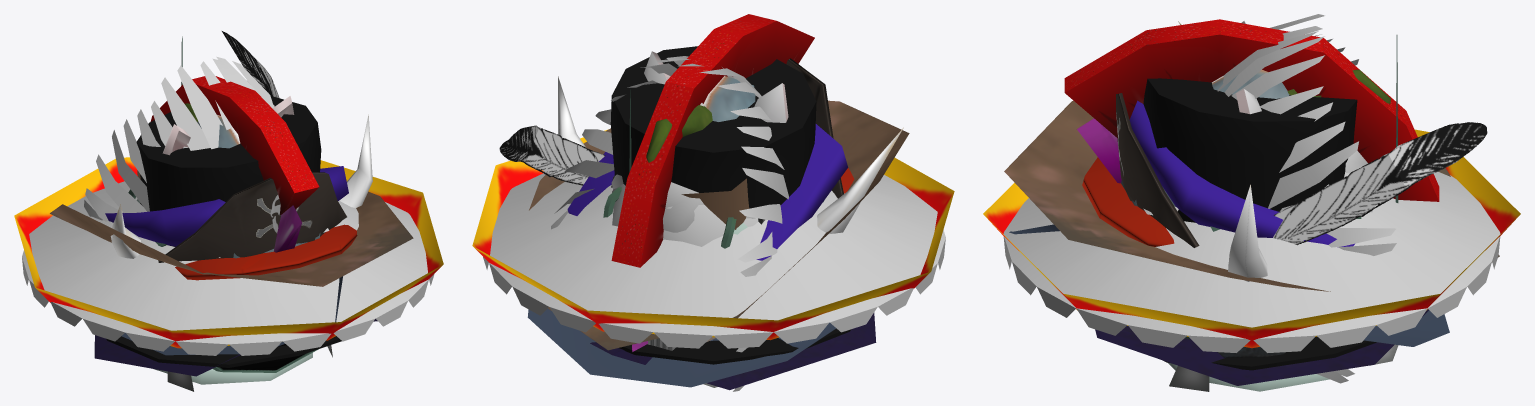
File: HatFix23-02-17.fbx
3 renders of one model, left to right at view 1: azimuth 30°, elevation 25°; view 2: azimuth 150°, elevation 25°; view 3: azimuth 270°, elevation 25°, orthographic. The views are drawn at different scales.
Parts seen in each view (by area): view 1: AsianHat, TopHat, Sombrero, NativeAmericanHat, PirateHat, RomanHelmet, CowboyHat, FiremanHelmet, PoliceHat, SpaceHelmet, VikingHelmet, WizardHat (+4 smaller); view 2: AsianHat, TopHat, RomanHelmet, MusketeerHat, Sombrero, CowboyHat, NativeAmericanHat, PoliceHat, WizardHat, VikingHelmet, BuildersHelmet, RastafarianHat (+5 smaller); view 3: AsianHat, RomanHelmet, TopHat, MusketeerHat, CowboyHat, NativeAmericanHat, Sombrero, PoliceHat, WizardHat, PirateHat, FiremanHelmet, VikingHelmet (+4 smaller).
Boxes of the visible parts, bbox=[...] form: AsianHat: bbox=[22, 181, 434, 355]; TopHat: bbox=[106, 96, 341, 367]; Sombrero: bbox=[14, 157, 443, 348]; NativeAmericanHat: bbox=[84, 56, 274, 221]; PirateHat: bbox=[158, 172, 346, 262]; RomanHelmet: bbox=[150, 76, 332, 391]; CowboyHat: bbox=[50, 170, 413, 286]; FiremanHelmet: bbox=[175, 224, 357, 280]; PoliceHat: bbox=[105, 166, 348, 246]; SpaceHelmet: bbox=[128, 36, 318, 384]; VikingHelmet: bbox=[110, 114, 372, 258]; WizardHat: bbox=[94, 319, 377, 376]; AsianHat: bbox=[483, 173, 945, 348]; TopHat: bbox=[610, 46, 851, 364]; RomanHelmet: bbox=[611, 14, 814, 387]; MusketeerHat: bbox=[499, 125, 836, 387]; Sombrero: bbox=[472, 129, 954, 340]; CowboyHat: bbox=[529, 100, 909, 350]; NativeAmericanHat: bbox=[551, 56, 788, 391]; PoliceHat: bbox=[567, 124, 848, 260]; WizardHat: bbox=[590, 312, 876, 390]; VikingHelmet: bbox=[558, 76, 903, 234]; BuildersHelmet: bbox=[612, 184, 758, 246]; RastafarianHat: bbox=[611, 174, 755, 232]; AsianHat: bbox=[1003, 172, 1500, 352]; RomanHelmet: bbox=[1064, 19, 1439, 391]; TopHat: bbox=[1143, 78, 1376, 370]; MusketeerHat: bbox=[1009, 122, 1487, 346]; CowboyHat: bbox=[1004, 101, 1499, 291]; NativeAmericanHat: bbox=[1217, 14, 1396, 383]; Sombrero: bbox=[983, 129, 1520, 348]; PoliceHat: bbox=[1129, 100, 1354, 247]; WizardHat: bbox=[1095, 309, 1428, 385]; PirateHat: bbox=[1116, 93, 1199, 247]; FiremanHelmet: bbox=[1082, 157, 1174, 246]; VikingHelmet: bbox=[1178, 21, 1267, 281].
Bounding box in the file's own units: 1.84 × 1.23 × 1.84.
